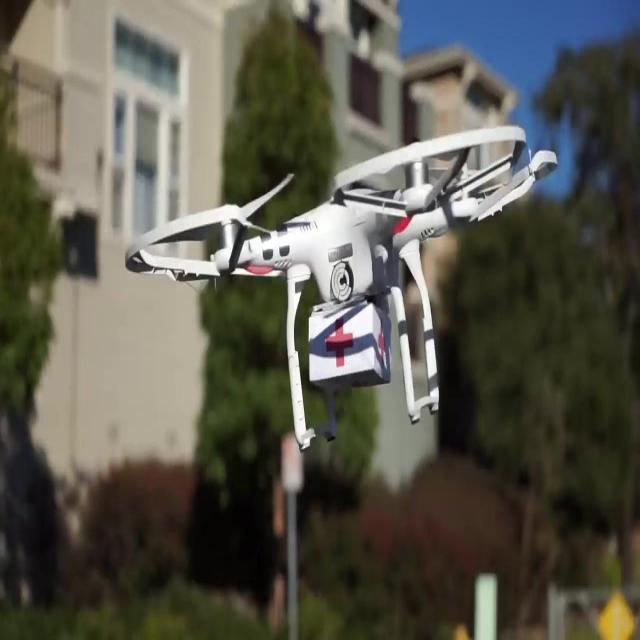drone: (124, 126, 556, 457)
